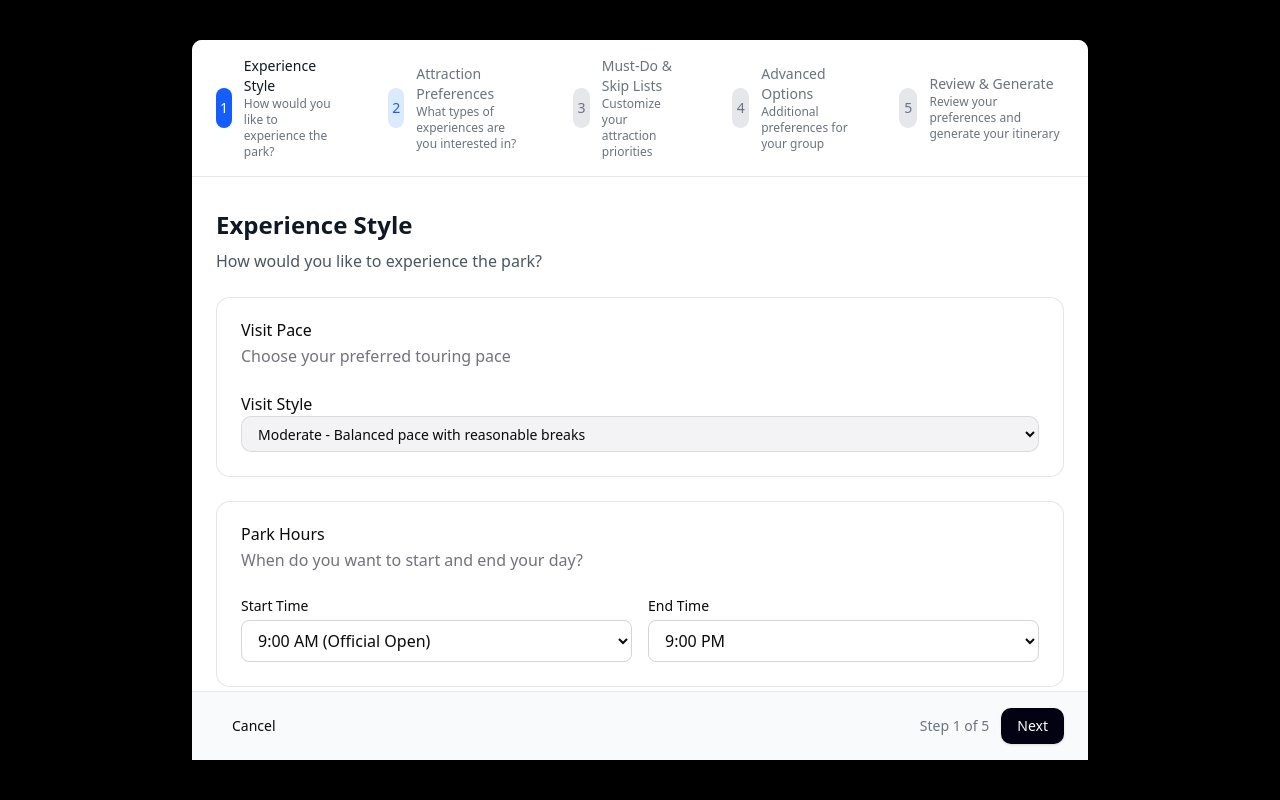
Test case: ItineraryPreferencesWizard › shows loading attractions spinner on step 3
The image size is (1280, 800).
Click the button "Next": (1033, 726) [1001, 708, 1064, 744]
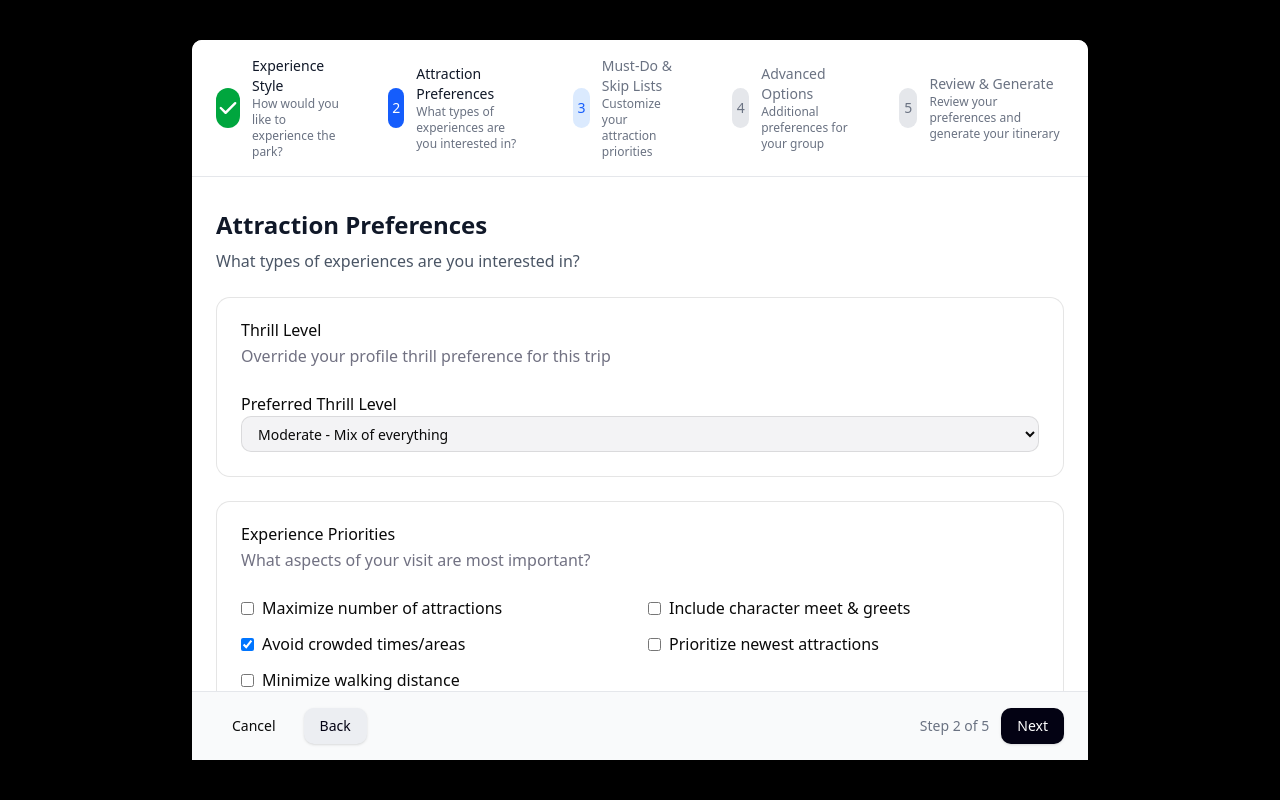
Click the button "Next": (1033, 726) [1001, 708, 1064, 744]
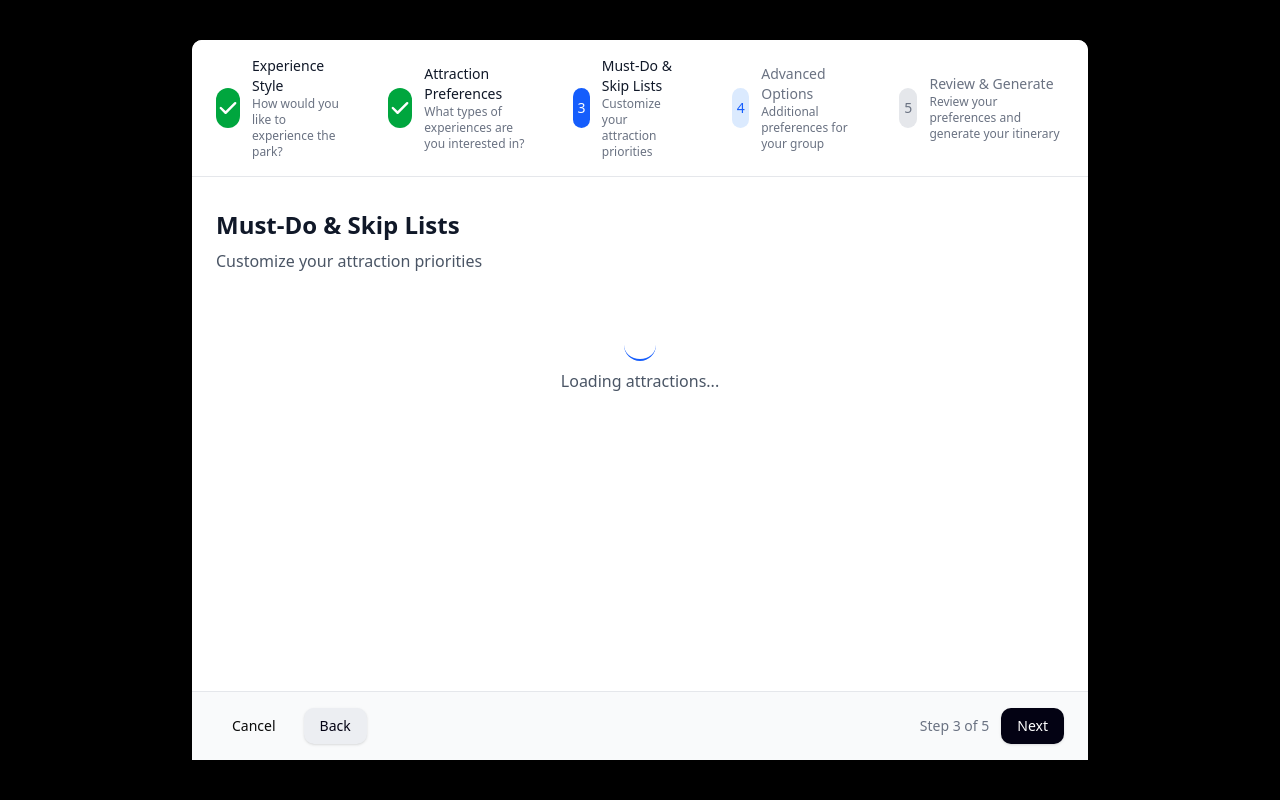
Now the text "Loading attractions..." is shown, box [561, 370, 719, 392]
